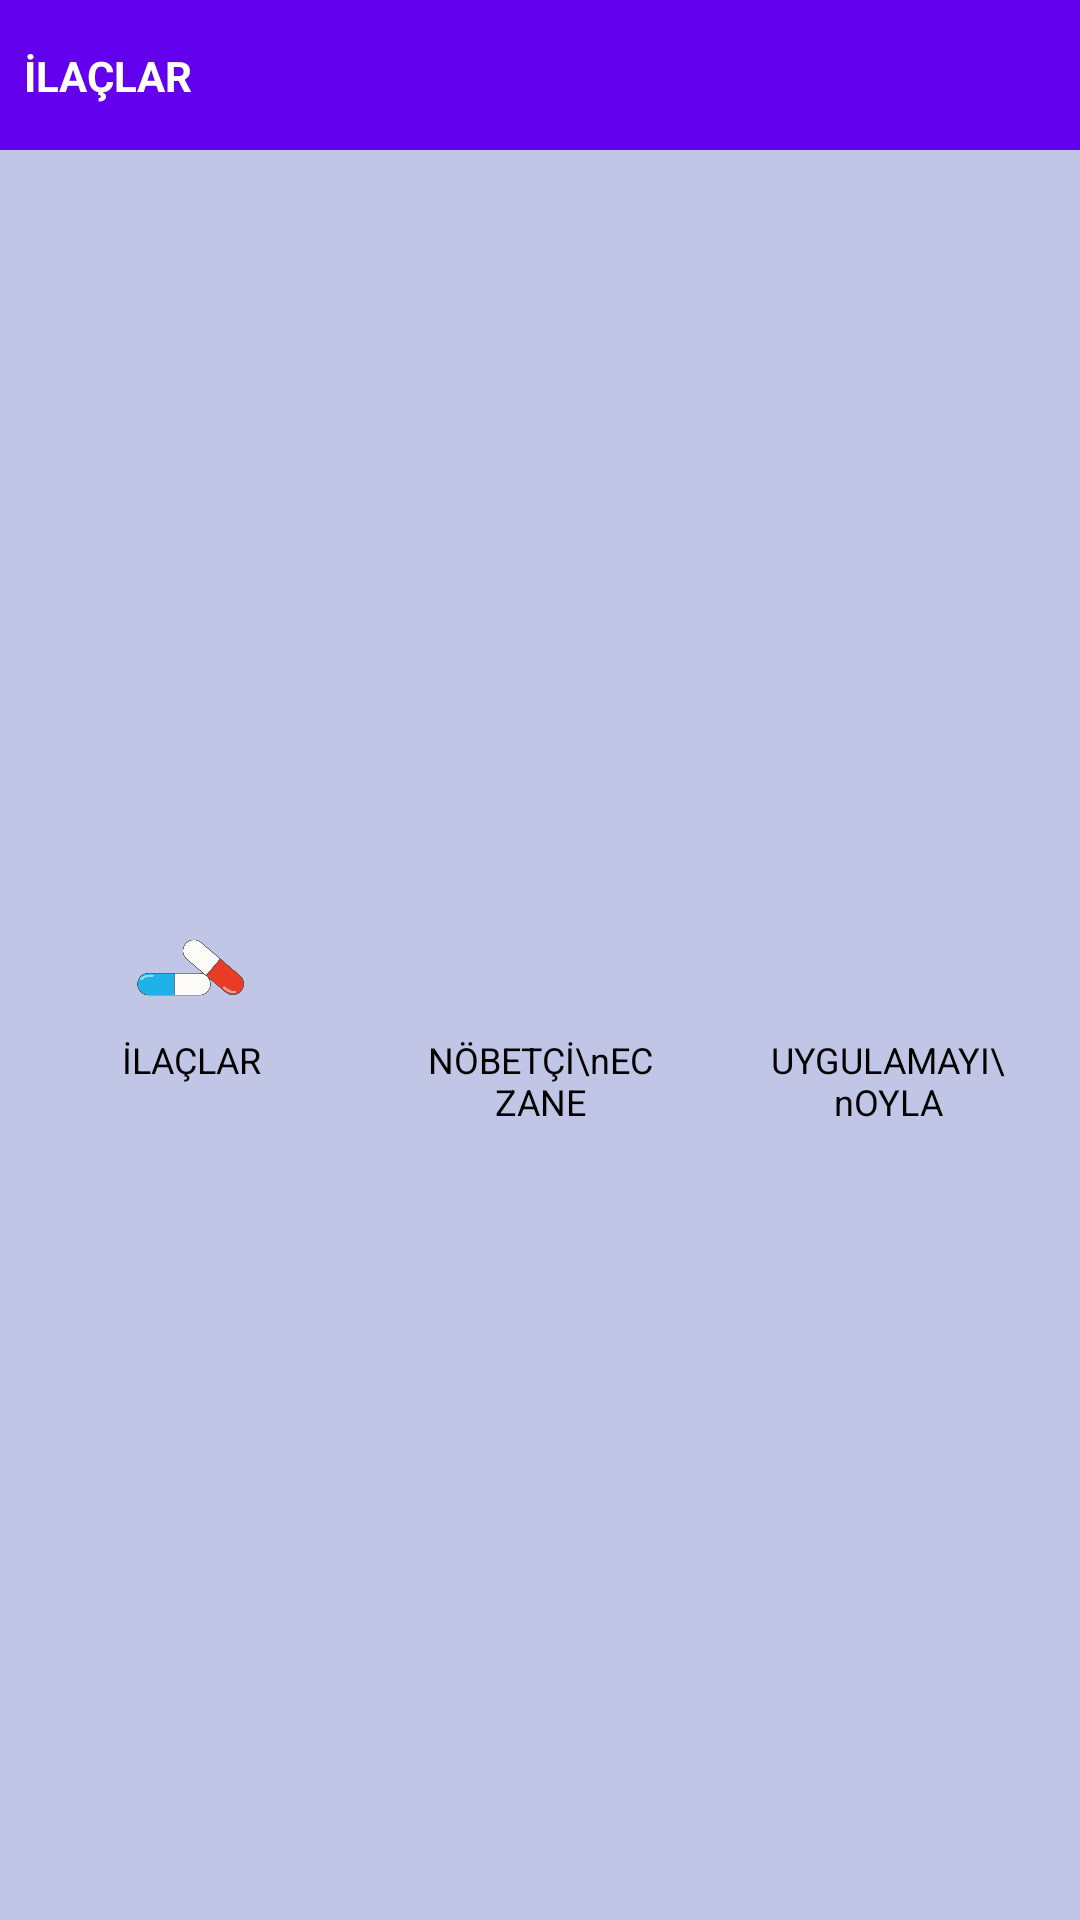

Named icons in this screenshot (1080*1920) and their centers, point (x, y):
ilackapsul: point (190, 967)
